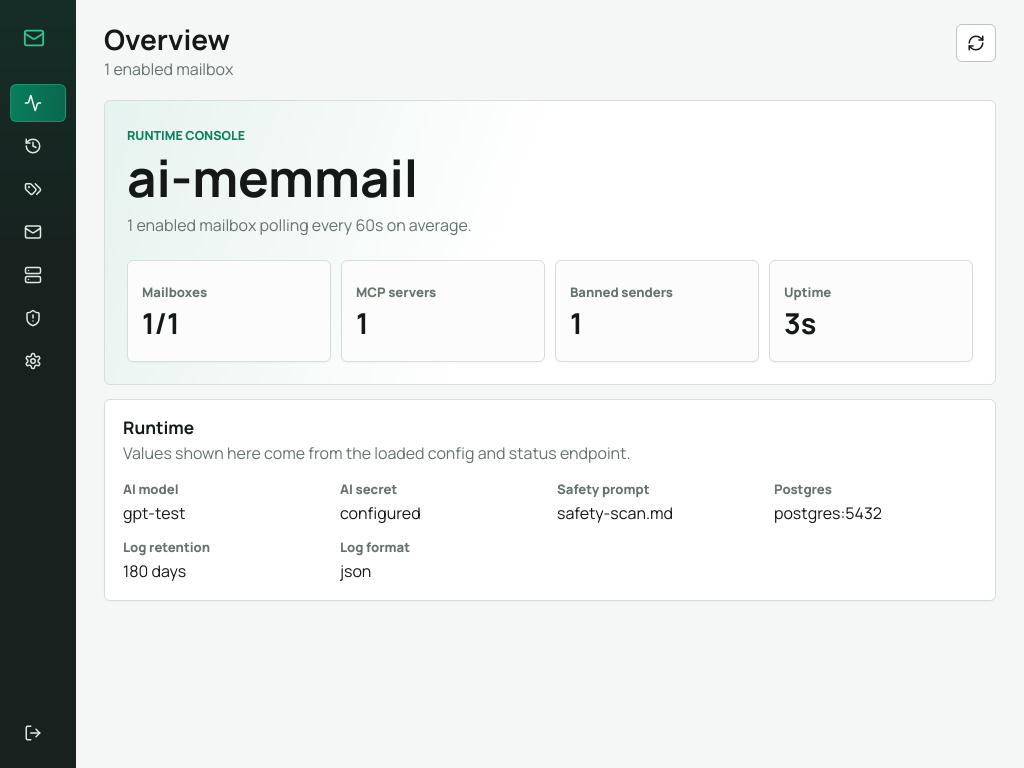
Test: App interaction guards › discards dirty config when refresh is confirmed
Click the button "Settings" at (38, 361), box [10,342,66,380]
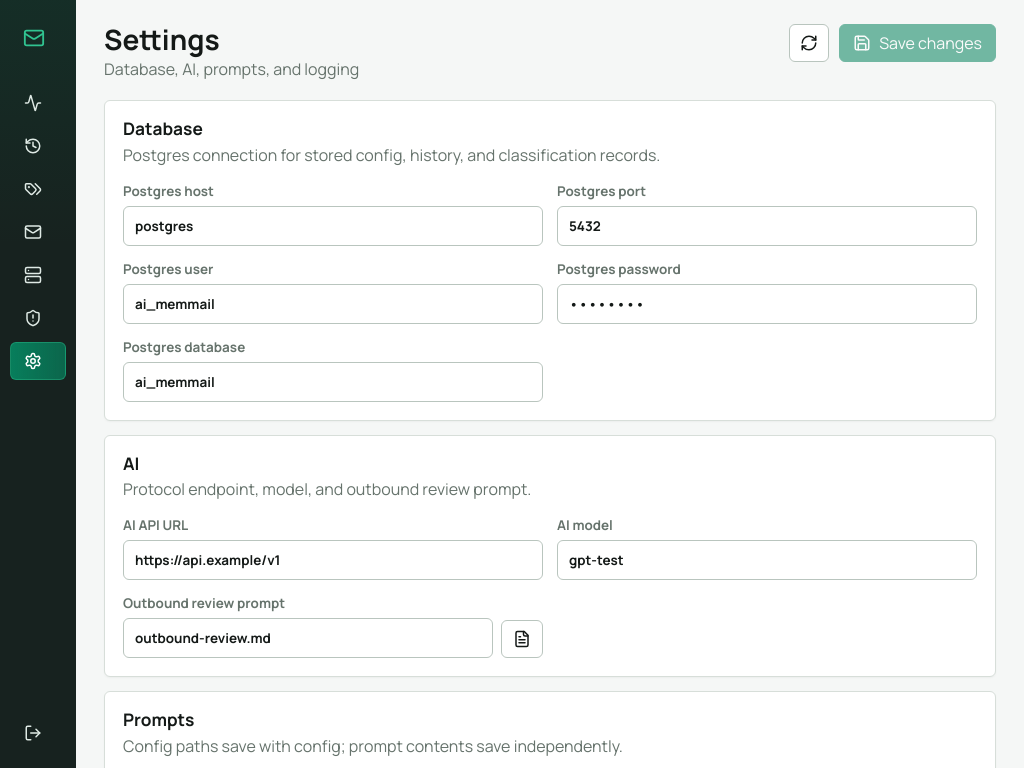
Replace the text in the field labelled "AI model" with "draft-model" at (767, 560), box [557,540,977,580]
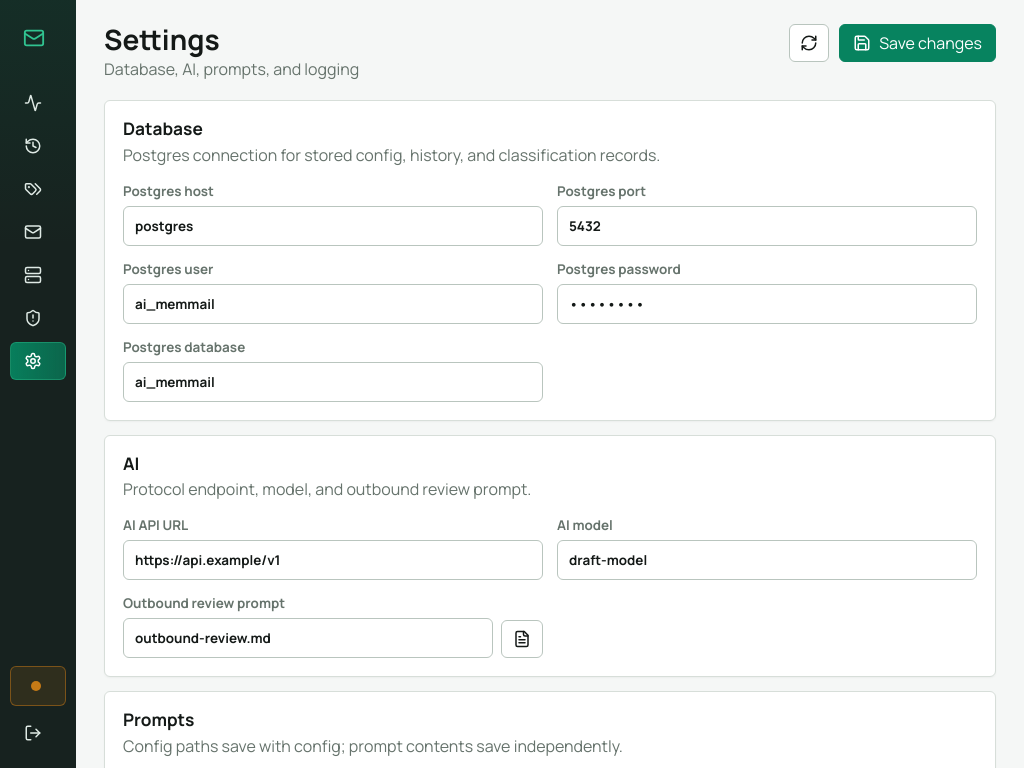
Click the button named "refresh data" at (809, 43), box [789,24,829,62]
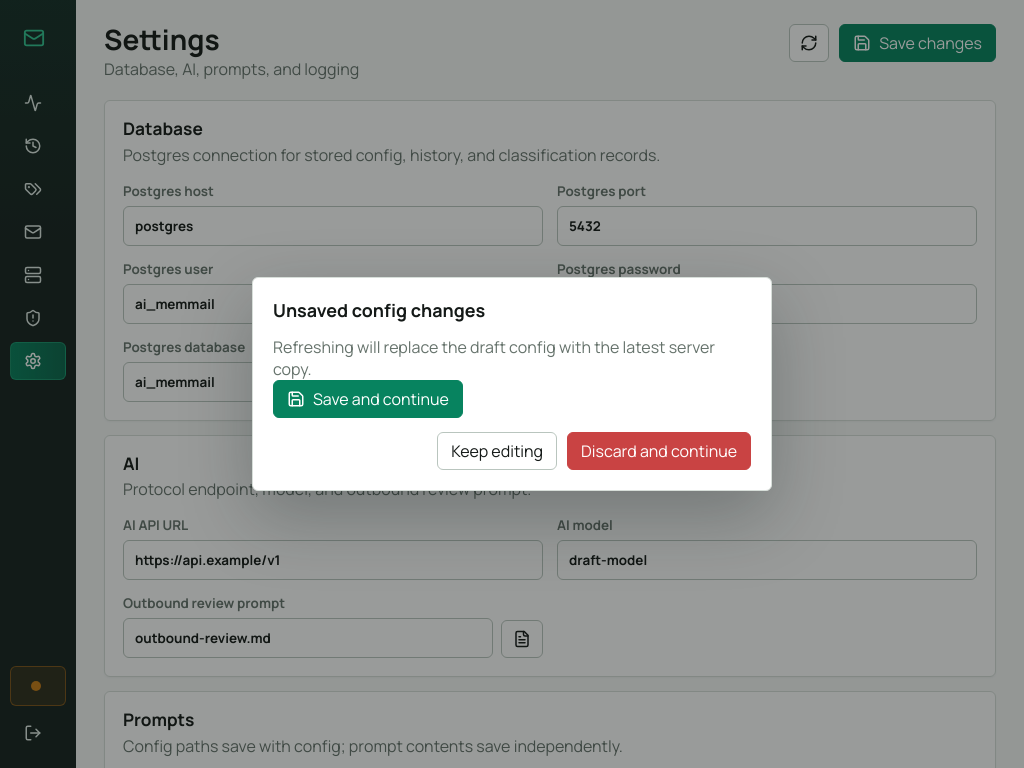
Click the button "Discard and continue" at (659, 451), box [567,432,751,470]
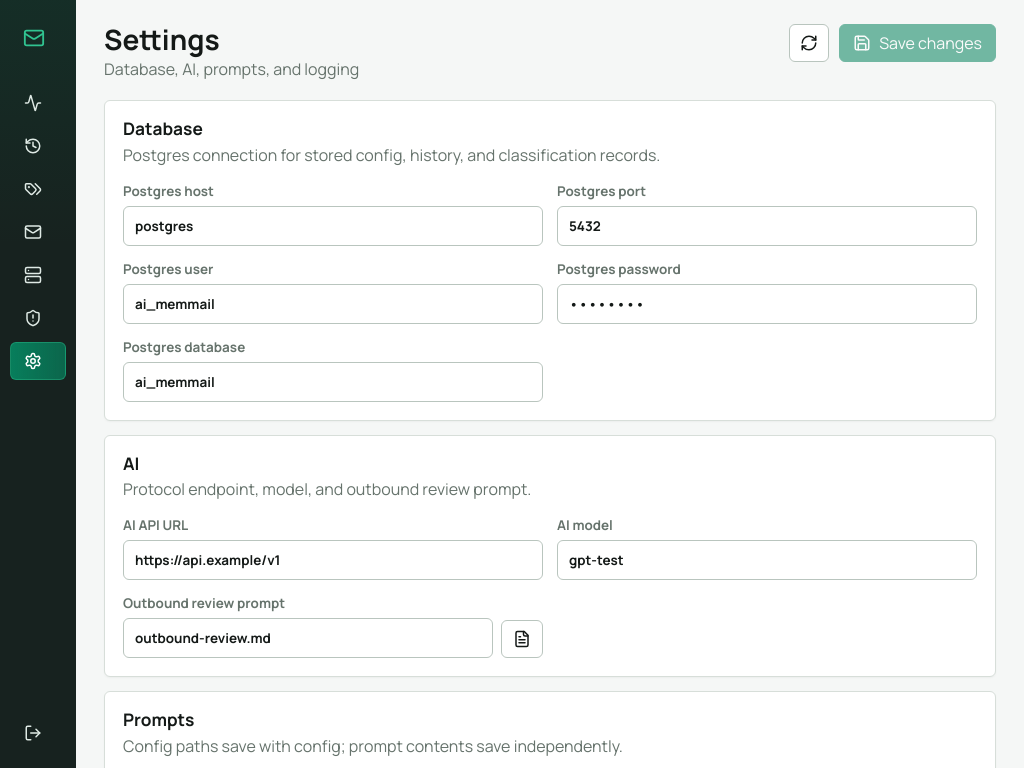
Now the field labelled "AI model" holds "gpt-test", box [557,540,977,580]
